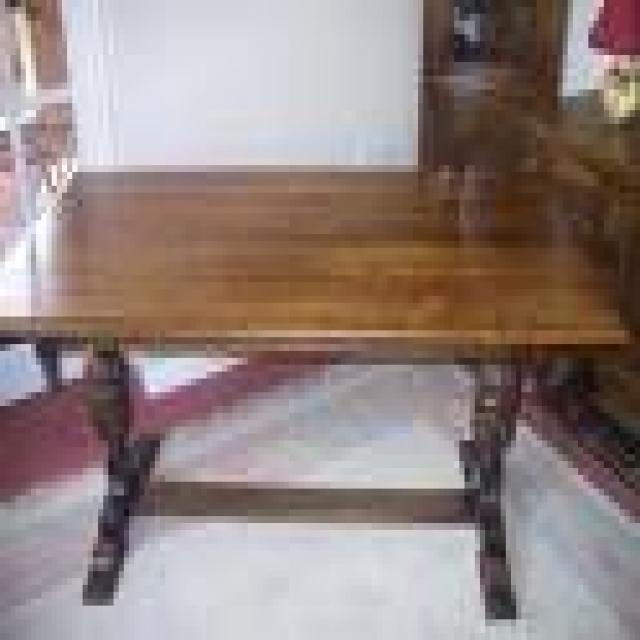table: (0, 171, 630, 617)
